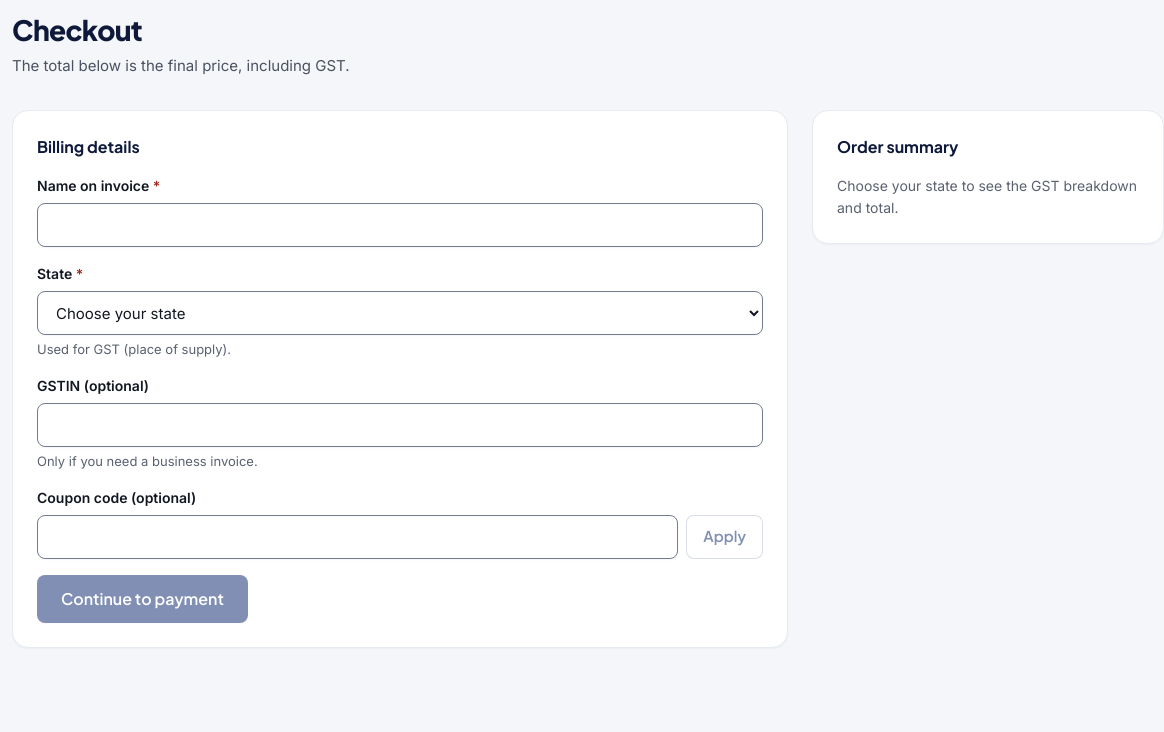
Checkout URL (FE-27) › replaces /app/checkout/new with the order id so a reload resumes instead of re-ordering
This screenshot has width=1164, height=732.
Type "Ananya" into the field labelled "Name on invoice *".
click(400, 225); type("Ananya")  # box [37, 203, 763, 247]
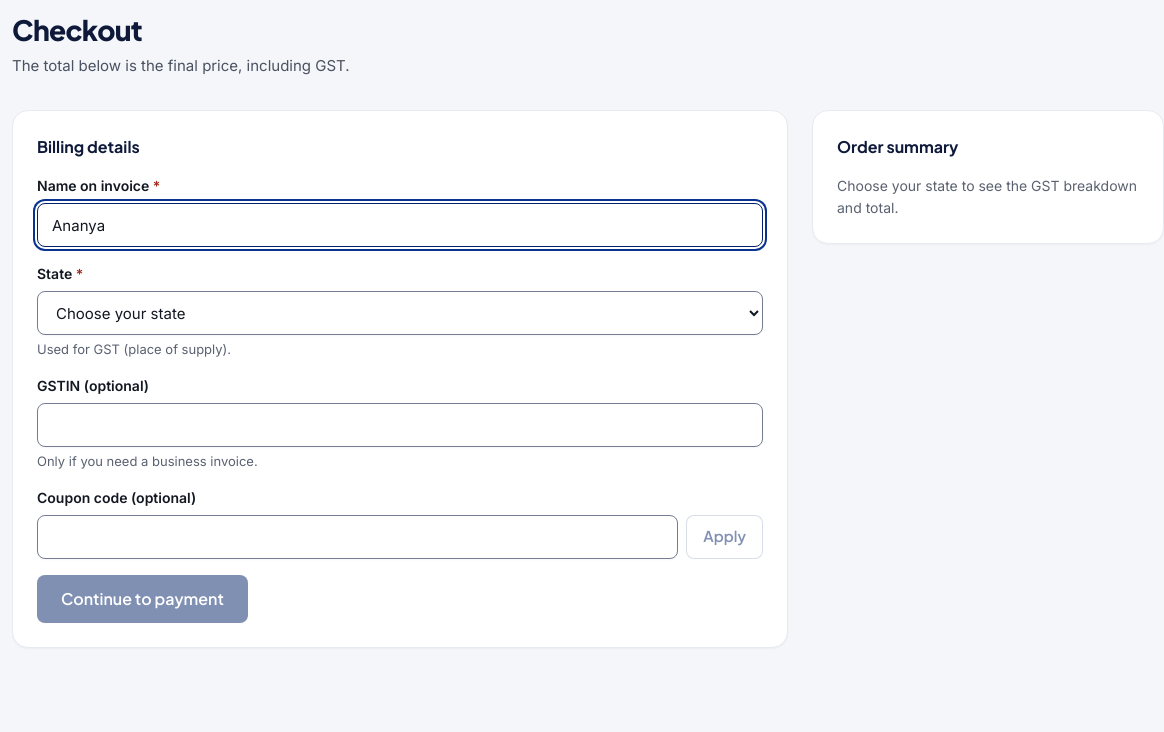
Select "Karnataka" in the dropdown labelled "State *" at (400, 313), box [37, 291, 763, 335]
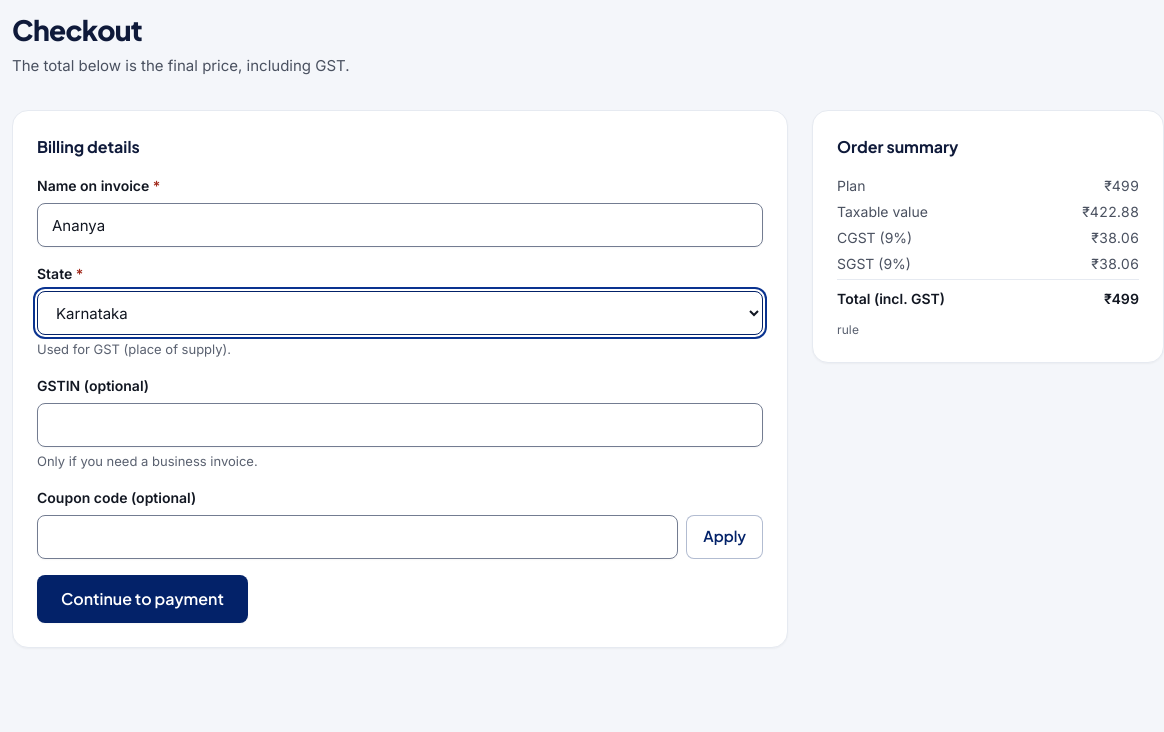
Expected: the text "CGST (9%)" is shown, [837, 227, 912, 249]
Click the button "Continue to payment".
click(142, 599)  # box [37, 575, 248, 623]
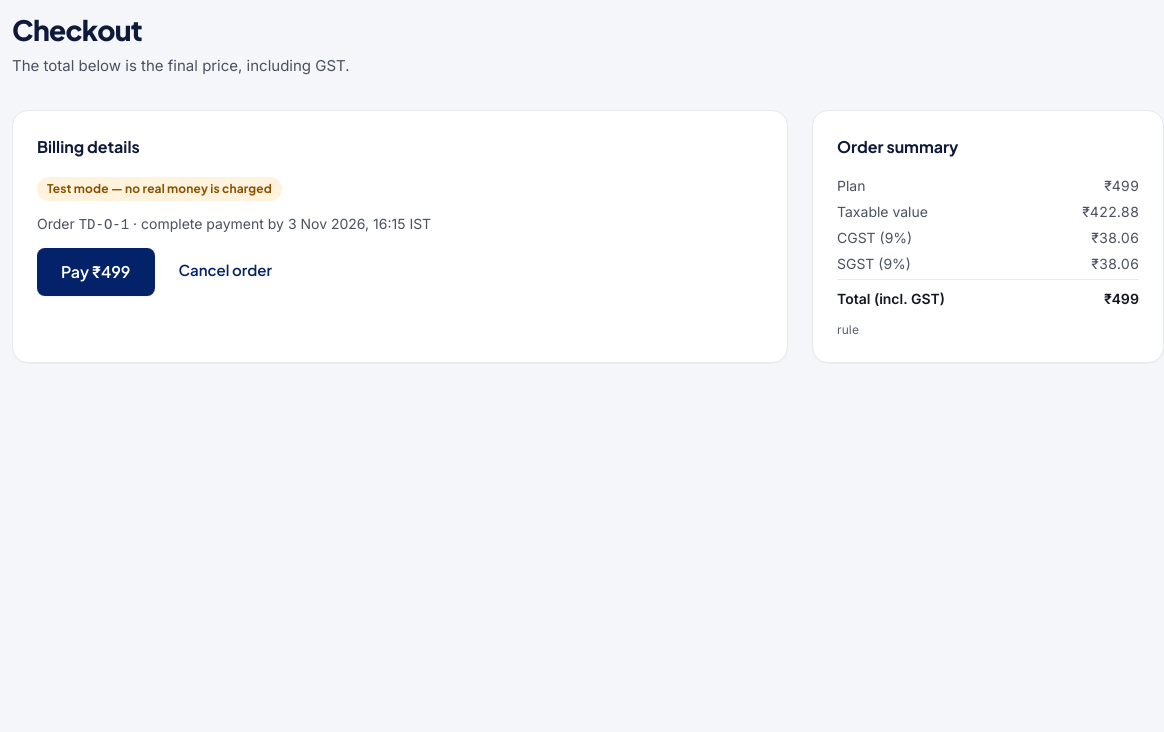
Expected: the button "Pay ₹499" is shown, [37, 248, 154, 296]
